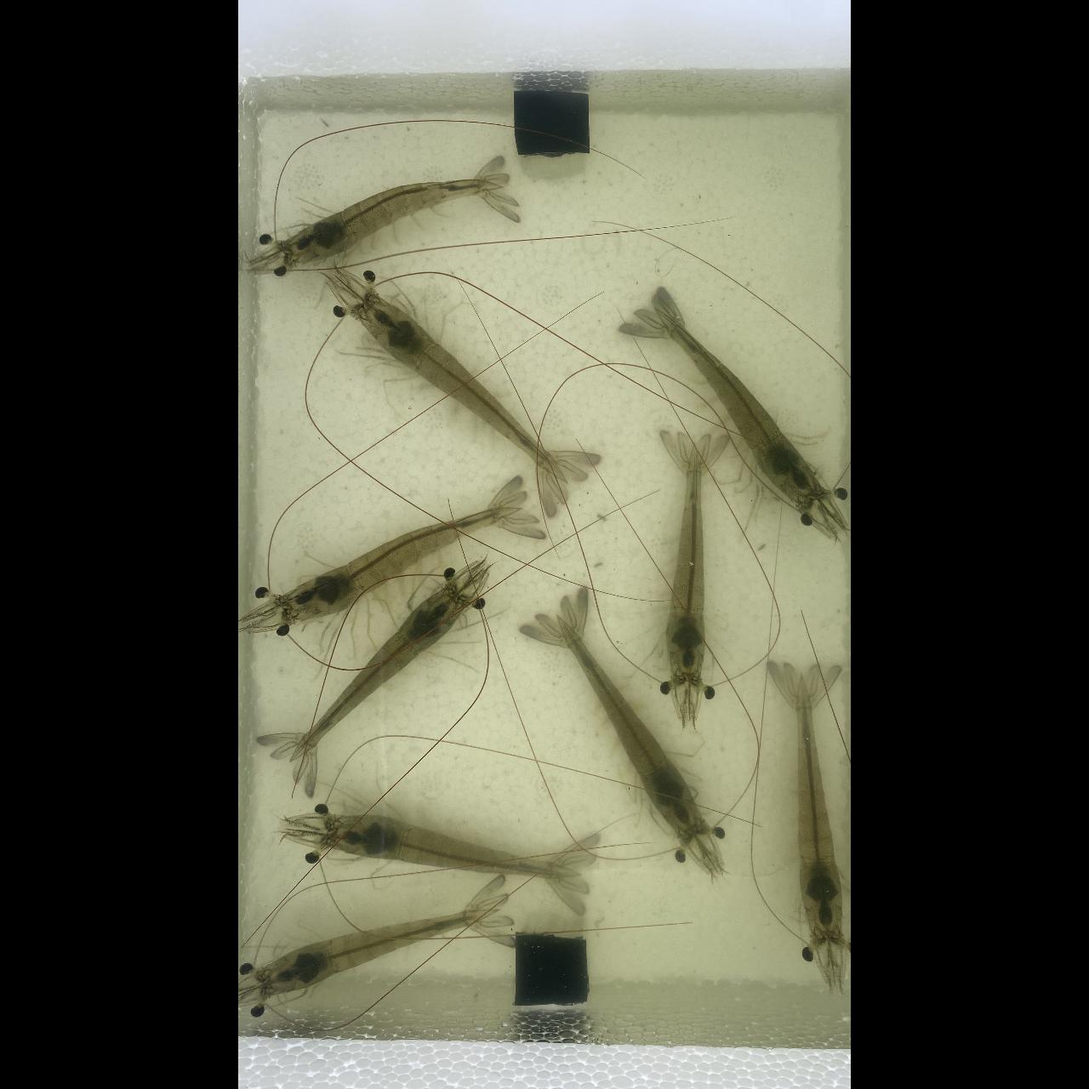box: (515, 934, 589, 1008), (514, 90, 589, 157)
top_shrimp: (357, 294, 566, 482), (556, 615, 703, 838), (654, 308, 819, 505), (289, 587, 464, 763), (285, 508, 520, 621), (259, 911, 498, 994), (285, 181, 499, 263), (327, 815, 583, 879), (797, 674, 844, 943), (666, 439, 705, 681)
